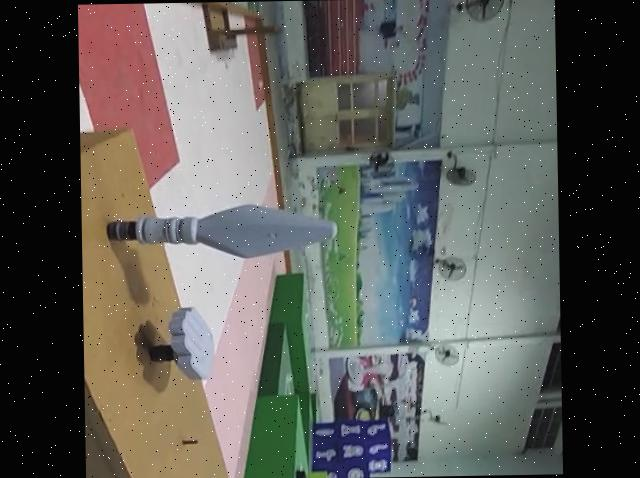Hand: (148, 307, 215, 379)
Sph: (103, 203, 338, 268)
